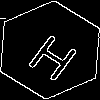H: (25, 25, 87, 83)
